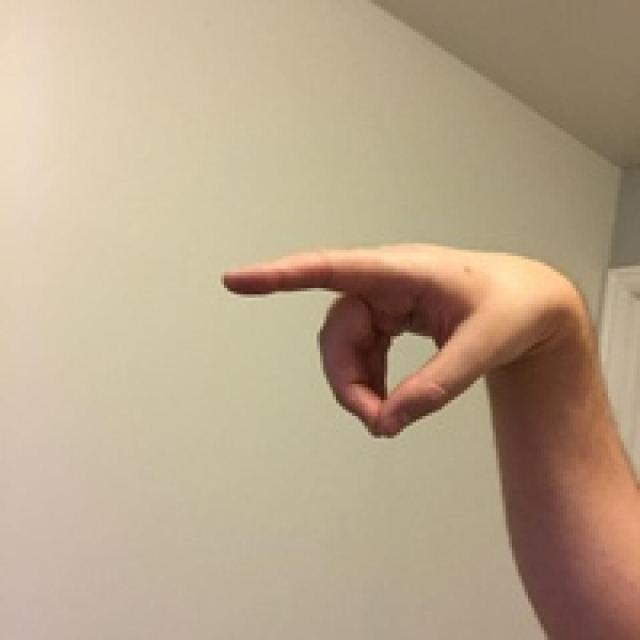P: (174, 184, 622, 471)
